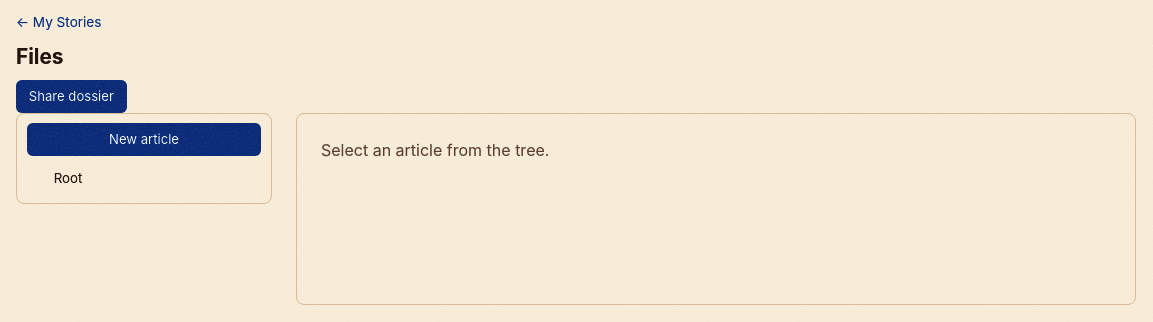
Scenario: DossierView › selecting a node shows it + an open-in-editor action
The width and height of the screenshot is (1153, 322).
Click the button with test id "tree-select-a1" at (134, 178), box [51,167,218,190]
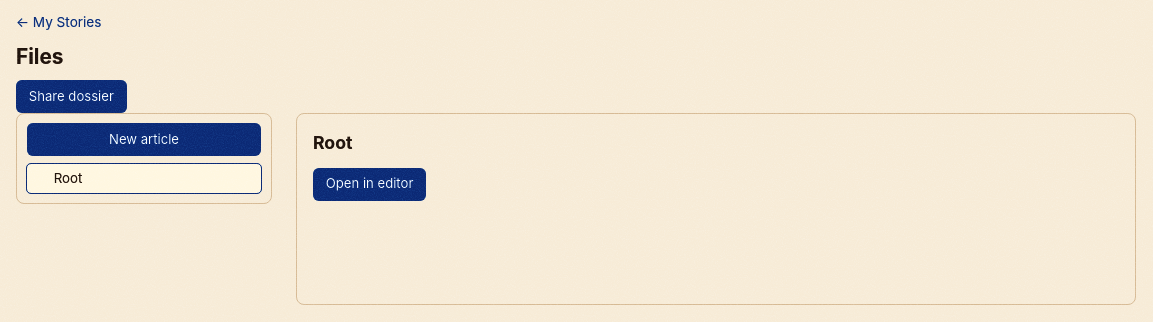
Now the heading with test id "dossier-selected-title" reads "Root", box [313,132,352,153]
Now the button with test id "dossier-edit-article" is shown, box [313,168,426,200]
